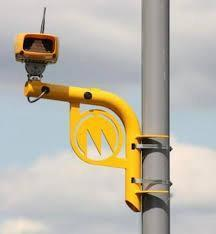Speed-Camera: (11, 1, 69, 70)
